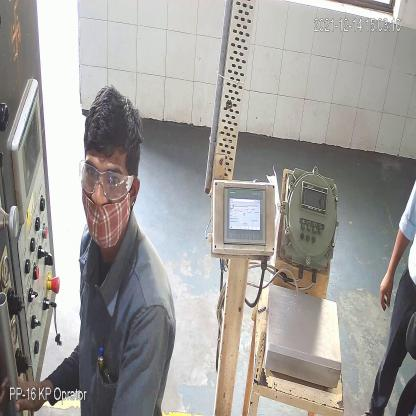goggles: (80, 158, 135, 202)
